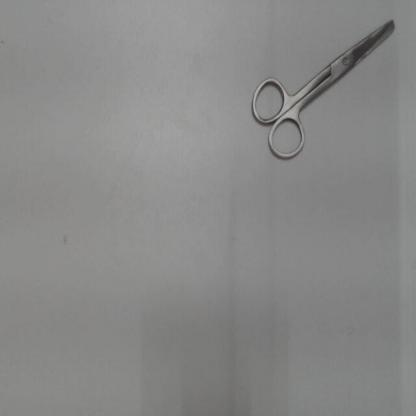Dressing Scissors: (240, 10, 405, 168)
